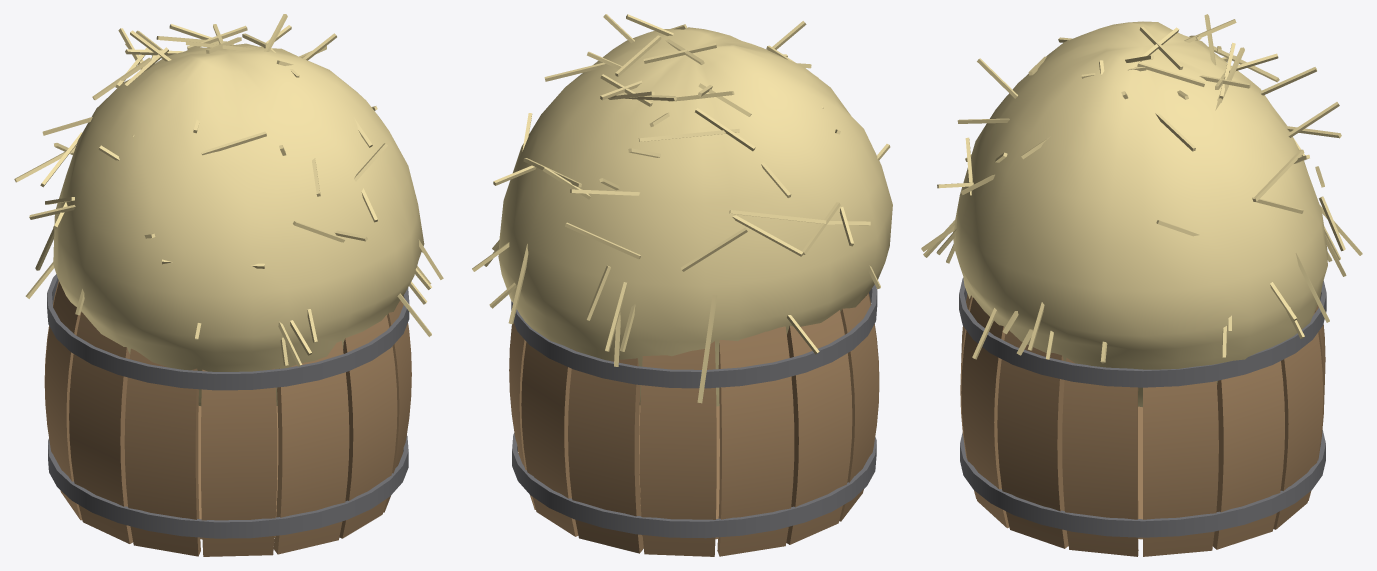
File: hay_barrel.glb
3 renders of one model, left to right at view 1: azimuth 30°, elevation 25°; view 2: azimuth 150°, elevation 25°; view 3: azimuth 270°, elevation 25°, orthographic.
Visible parts, largest first — view 1: HayBarrel_Hay, HayBarrel_Barrel; view 2: HayBarrel_Hay, HayBarrel_Barrel; view 3: HayBarrel_Hay, HayBarrel_Barrel.
Boxes of the visible parts, x1,y1,x2,y2 form: HayBarrel_Hay: [14, 14, 443, 405]; HayBarrel_Barrel: [44, 274, 411, 556]; HayBarrel_Hay: [472, 14, 892, 406]; HayBarrel_Barrel: [509, 284, 879, 556]; HayBarrel_Hay: [921, 14, 1362, 407]; HayBarrel_Barrel: [959, 278, 1326, 556].
Bounding box in the file's own units: 1.03 × 1.26 × 1.09.
